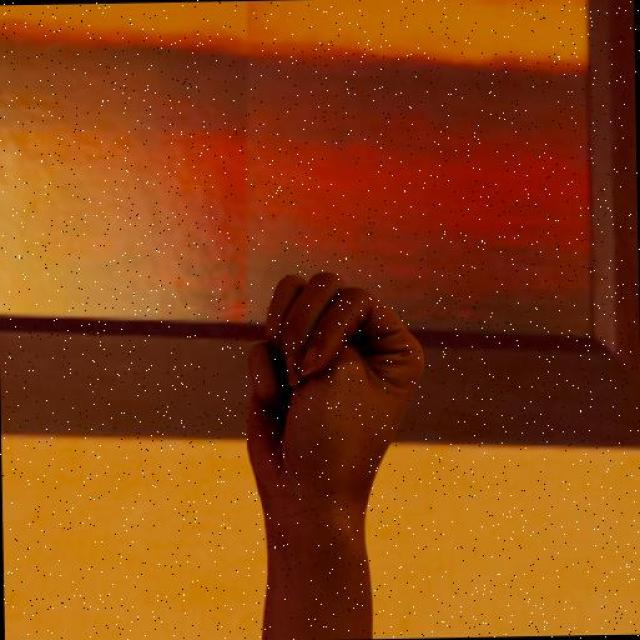M: (239, 266, 432, 512)
